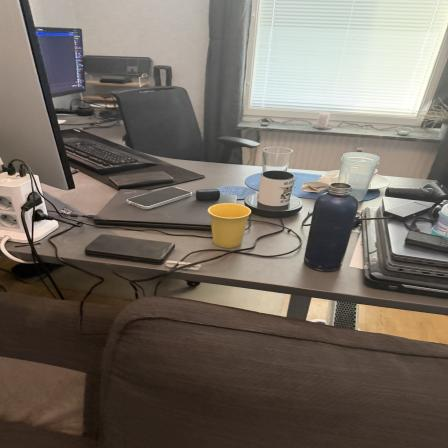blue_bottle: (305, 181, 352, 274)
phone: (85, 233, 179, 265), (125, 188, 196, 210), (106, 170, 174, 188)
yellow_cup: (209, 201, 254, 249)
